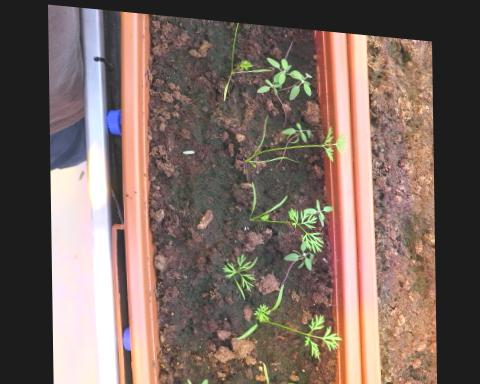weed: (182, 371, 210, 383)
